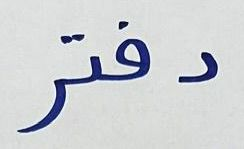dal: (169, 42, 221, 96)
noon: (57, 27, 105, 83)
qaf: (107, 15, 154, 86)
reh: (11, 85, 76, 136)
